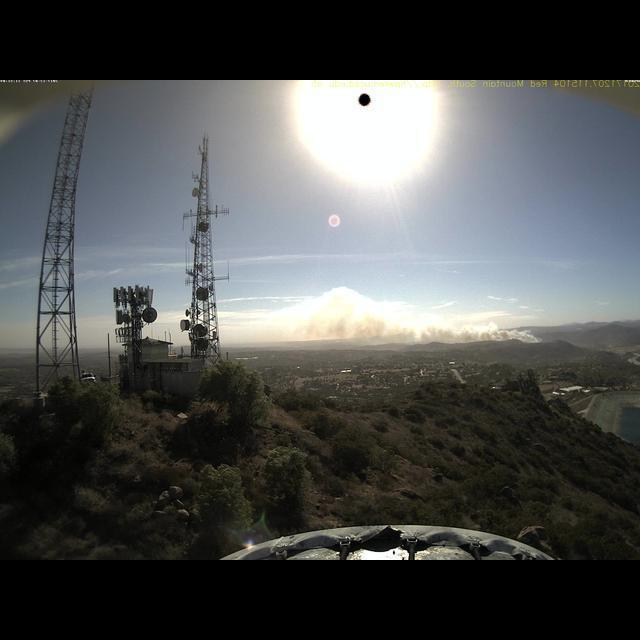Smoke: (290, 285, 542, 347)
